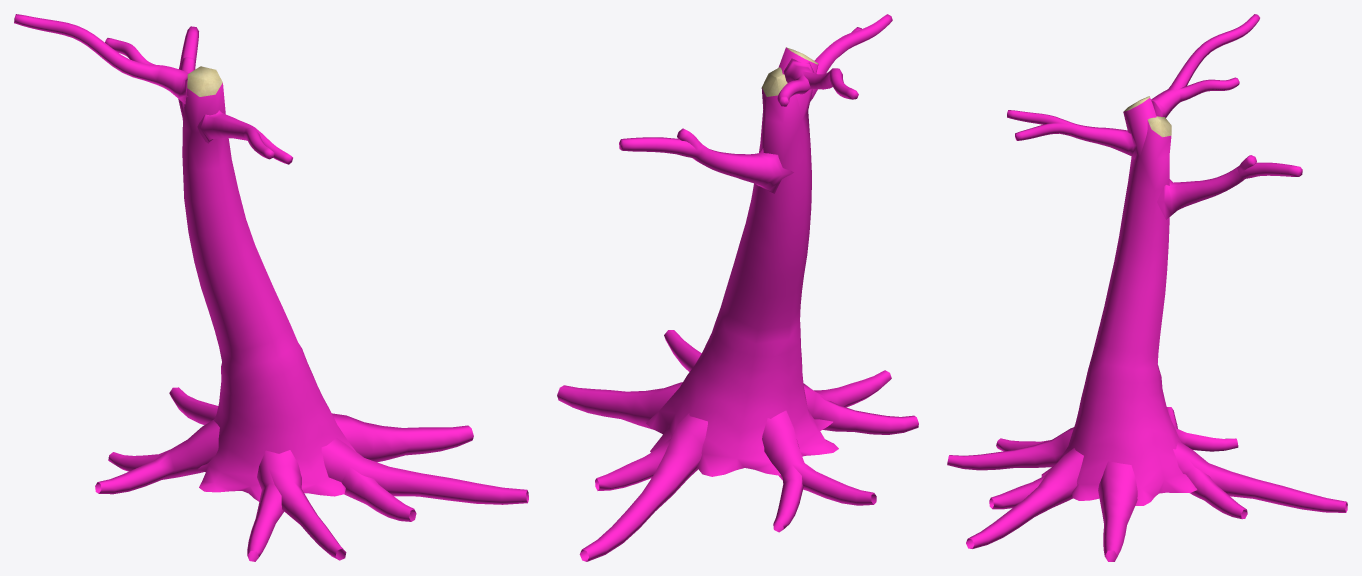
The model's file is Dead_Big_Tree_V2_FBX.fbx.
The picture shows the model from 3 angles, left to right: view 1: azimuth 30°, elevation 25°; view 2: azimuth 150°, elevation 25°; view 3: azimuth 270°, elevation 25°; orthographic projection. The views are drawn at different scales.
Visible parts, largest first — view 1: tree.001; view 2: tree.001; view 3: tree.001.
Boxes of the visible parts, bbox=[...] form: tree.001: bbox=[14, 14, 528, 561]; tree.001: bbox=[557, 14, 918, 561]; tree.001: bbox=[947, 14, 1347, 561].
Size of the model in its own units: 39870 by 48296 by 42837.
